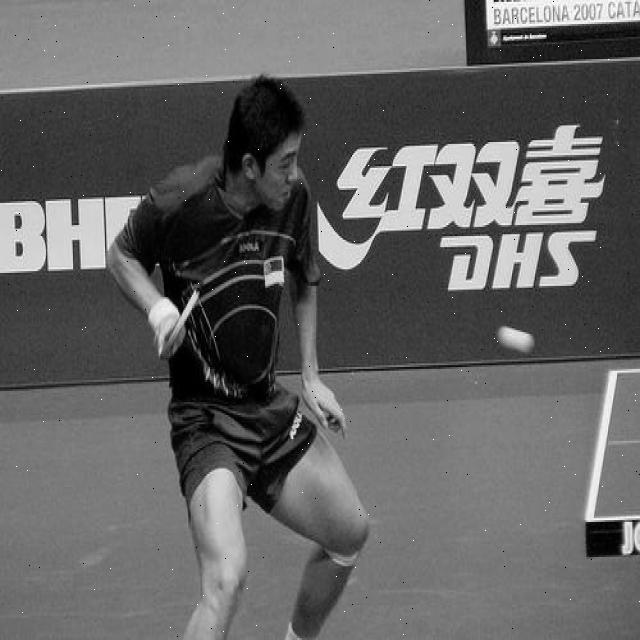ping-pong-ball: (498, 322, 536, 354)
